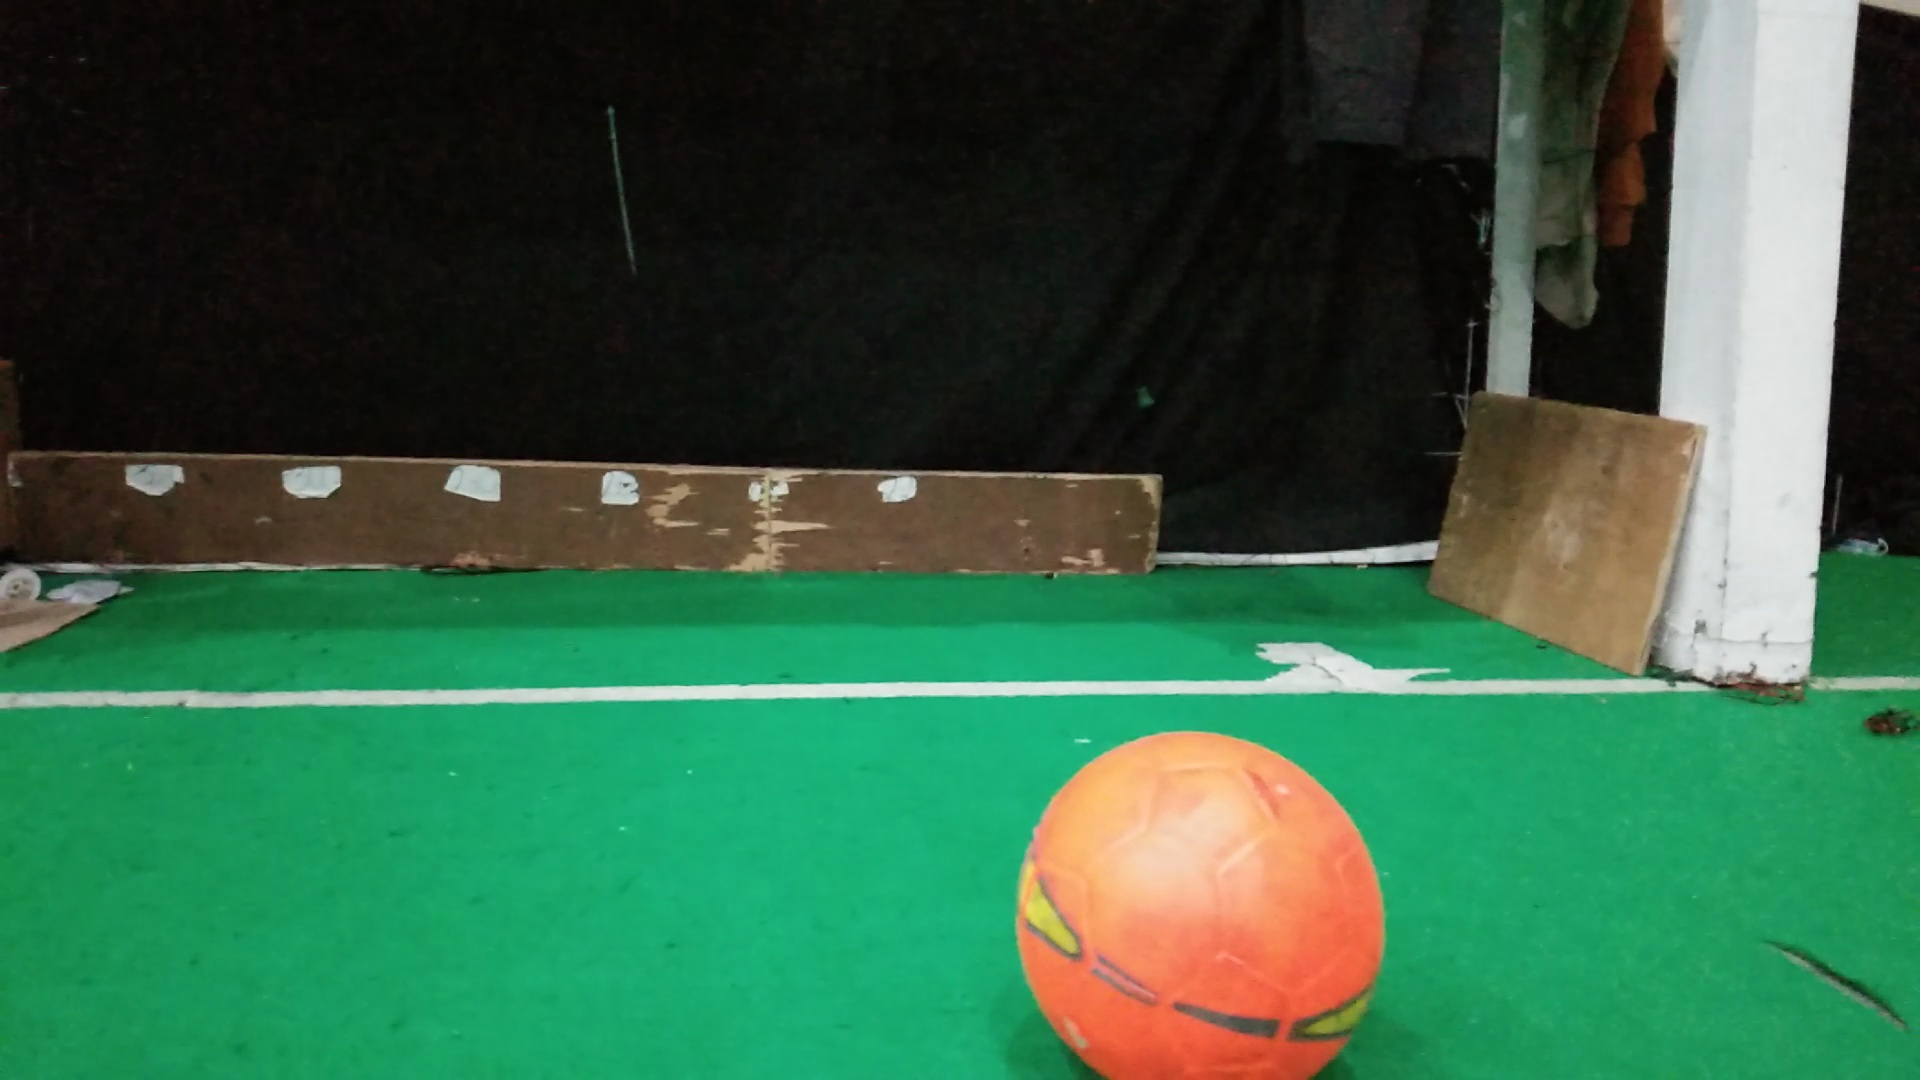bola: (1009, 720, 1406, 1080)
